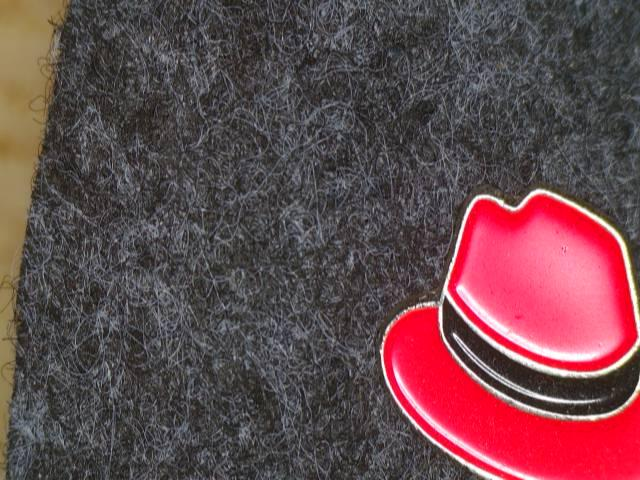Red-Hat: (349, 158, 640, 480)
